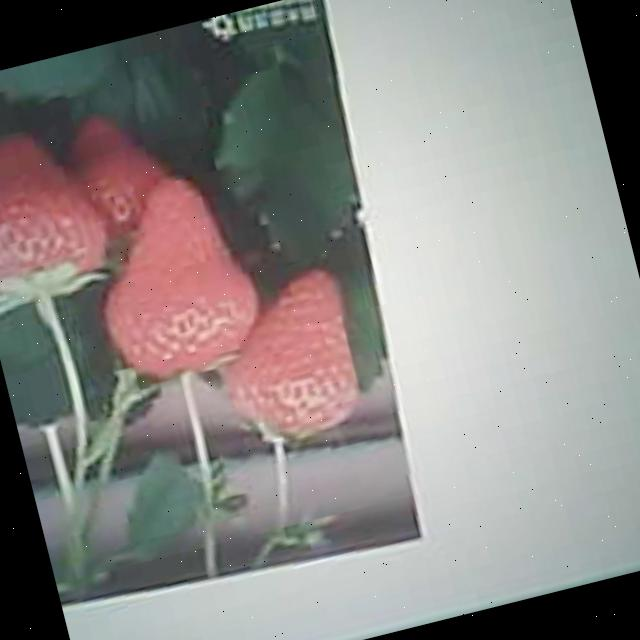strawberry: (82, 174, 267, 388), (207, 266, 370, 447), (0, 126, 109, 310)
